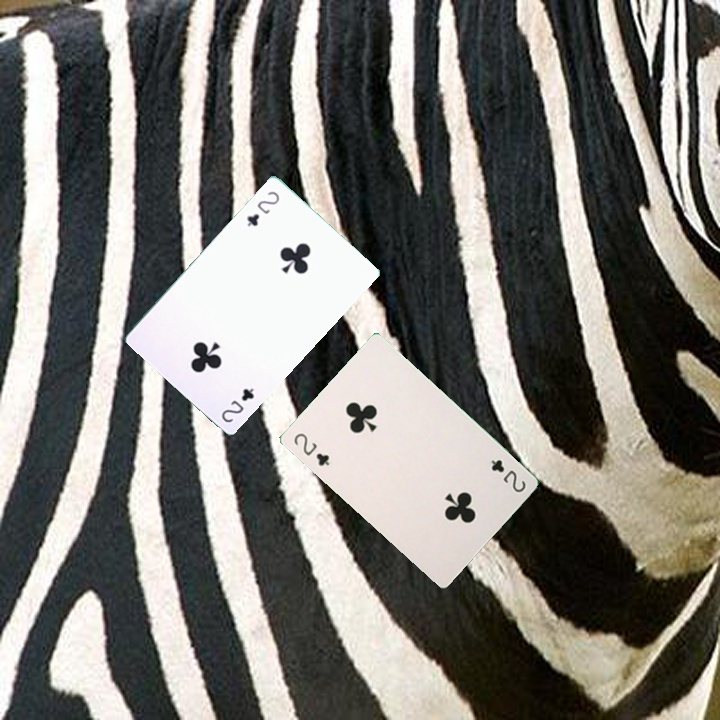2c: (289, 429, 332, 469), (242, 187, 282, 229), (487, 455, 528, 495), (217, 383, 256, 425)
